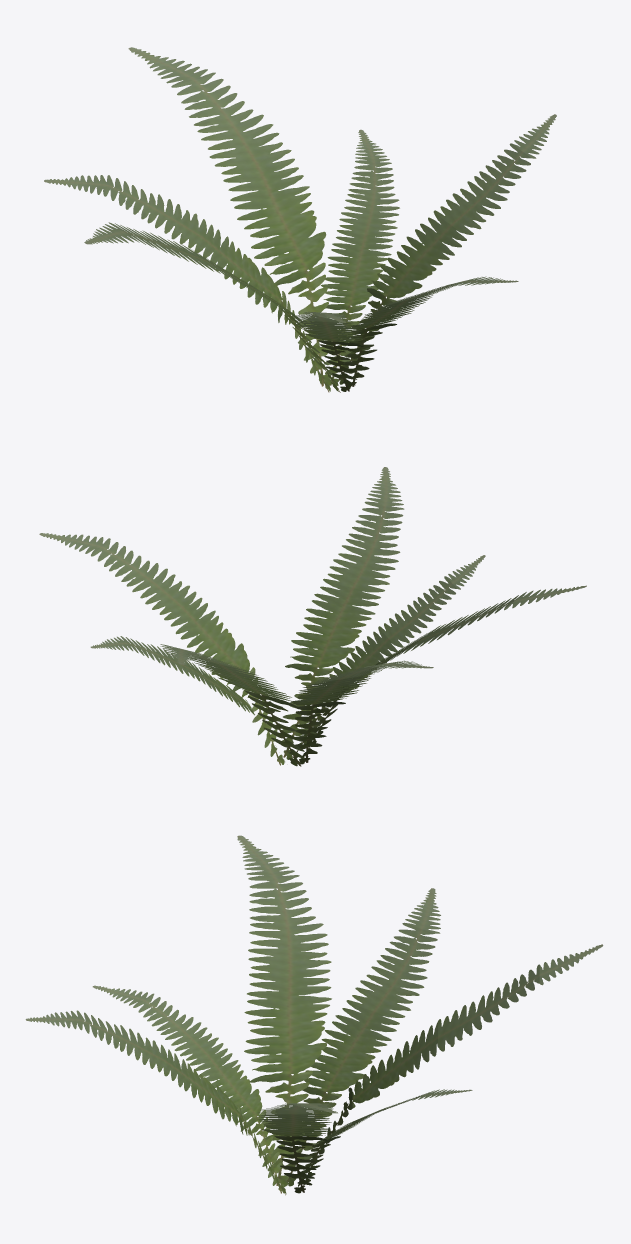
The model's file is low_poly_plant_-_by_lemstrx.glb.
The picture shows the model from 3 angles, top to bottom: view 1: azimuth 30°, elevation 25°; view 2: azimuth 150°, elevation 25°; view 3: azimuth 270°, elevation 25°; orthographic projection. The views are drawn at different scales.
Visible parts, largest first — view 1: Plane.003; view 2: Plane.003; view 3: Plane.003.
Boxes of the visible parts, left/top/right/bottom form: Plane.003: left=44, top=47, right=556, bottom=392; Plane.003: left=39, top=467, right=586, bottom=766; Plane.003: left=25, top=835, right=603, bottom=1195.
Bounding box in the file's own units: 70 × 30 × 70.
1 material, 1 textured.
